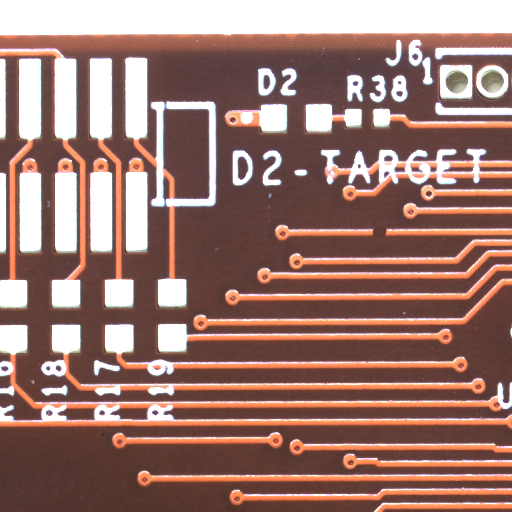Open_circuit: (379, 232, 392, 245)
